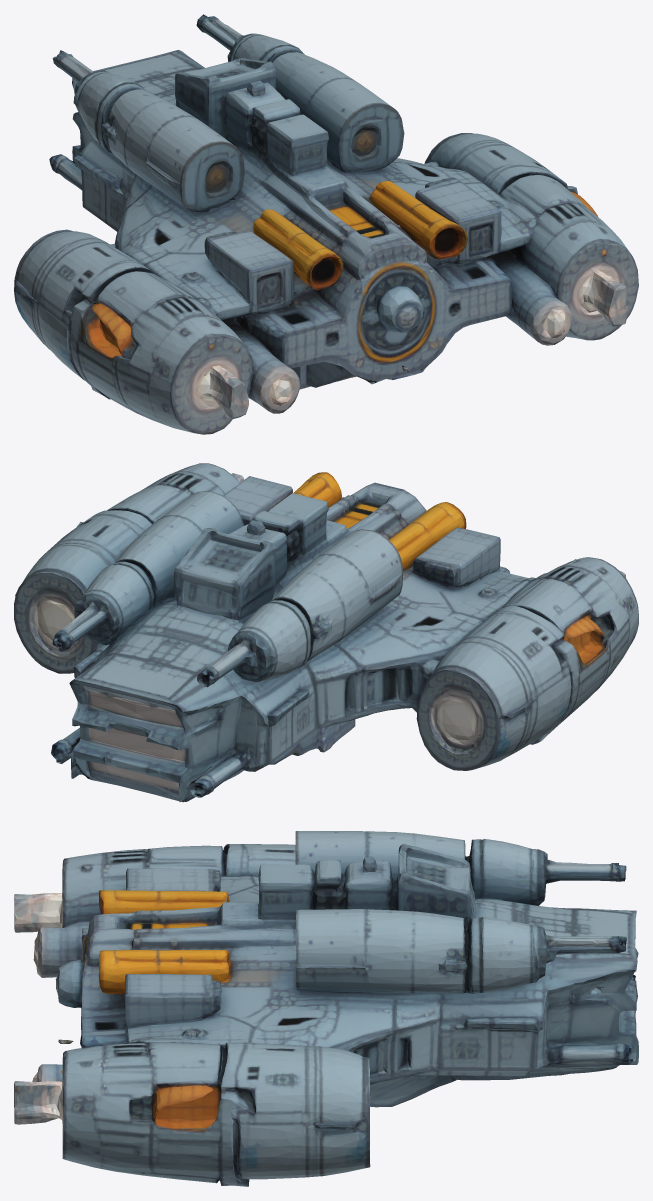
The model's file is Pugilist Patrol Ship.glb.
The picture shows the model from 3 angles, top to bottom: view 1: azimuth 30°, elevation 25°; view 2: azimuth 150°, elevation 25°; view 3: azimuth 270°, elevation 25°; orthographic projection. The views are drawn at different scales.
Visible parts, largest first — view 1: world; view 2: world; view 3: world.
Part boxes in pixels (x1,y1,x2,y2): world: (14, 14, 638, 434); world: (14, 463, 638, 802); world: (14, 831, 638, 1186).
Size of the model in its own units: 0.9583 by 0.4476 by 1.
Materials: 1 (1 with a texture image).
